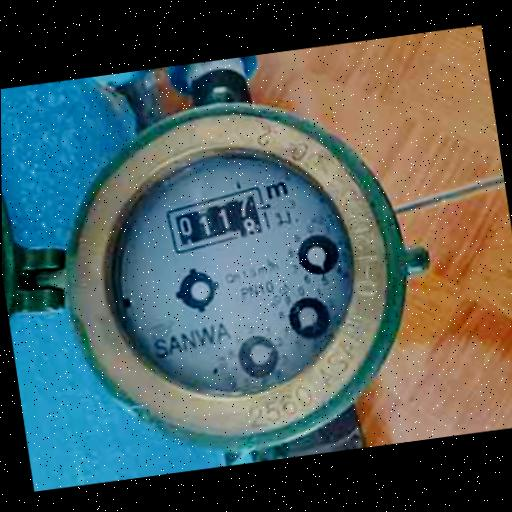0: (175, 210, 201, 245)
1: (211, 200, 240, 236), (193, 205, 219, 242)
7: (231, 193, 262, 238)
border_water_meter_number: (163, 184, 273, 256)
